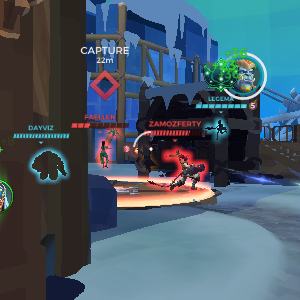model: (151, 146, 206, 194), (95, 137, 114, 173)
